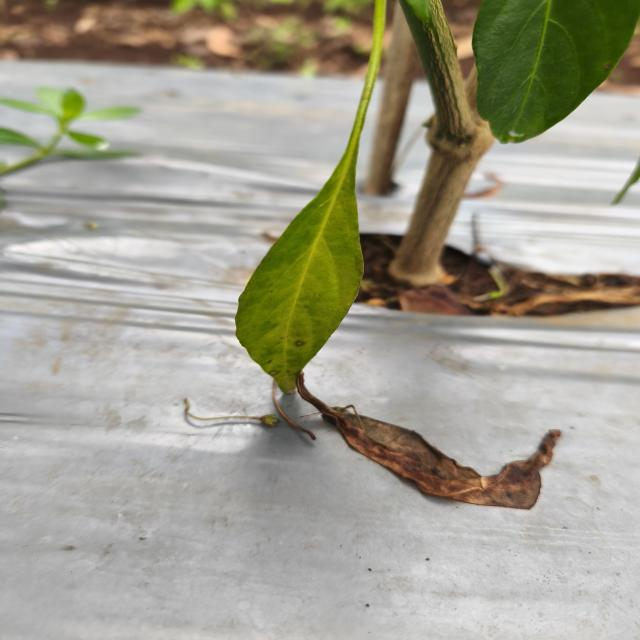Virus Kuning: (234, 151, 368, 394)
